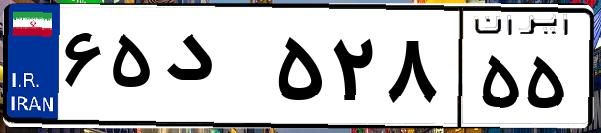2: (330, 28, 385, 110)
5: (270, 28, 330, 110), (475, 38, 525, 113), (525, 38, 570, 115), (110, 28, 158, 98)
6: (57, 26, 110, 100)
8: (385, 28, 445, 110)
د: (158, 20, 270, 120)
